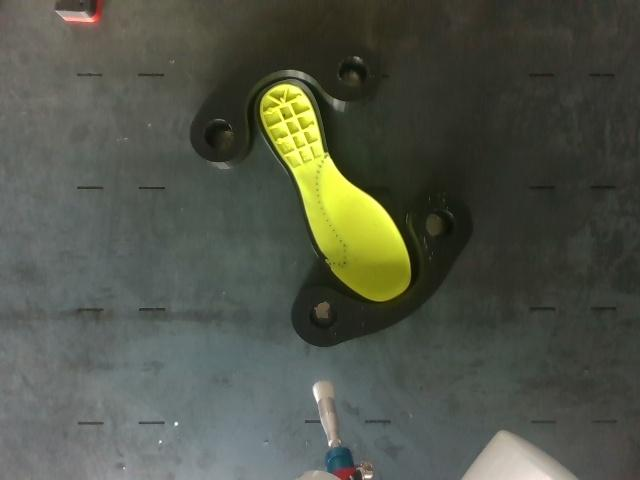shoes: (255, 79, 411, 302)
